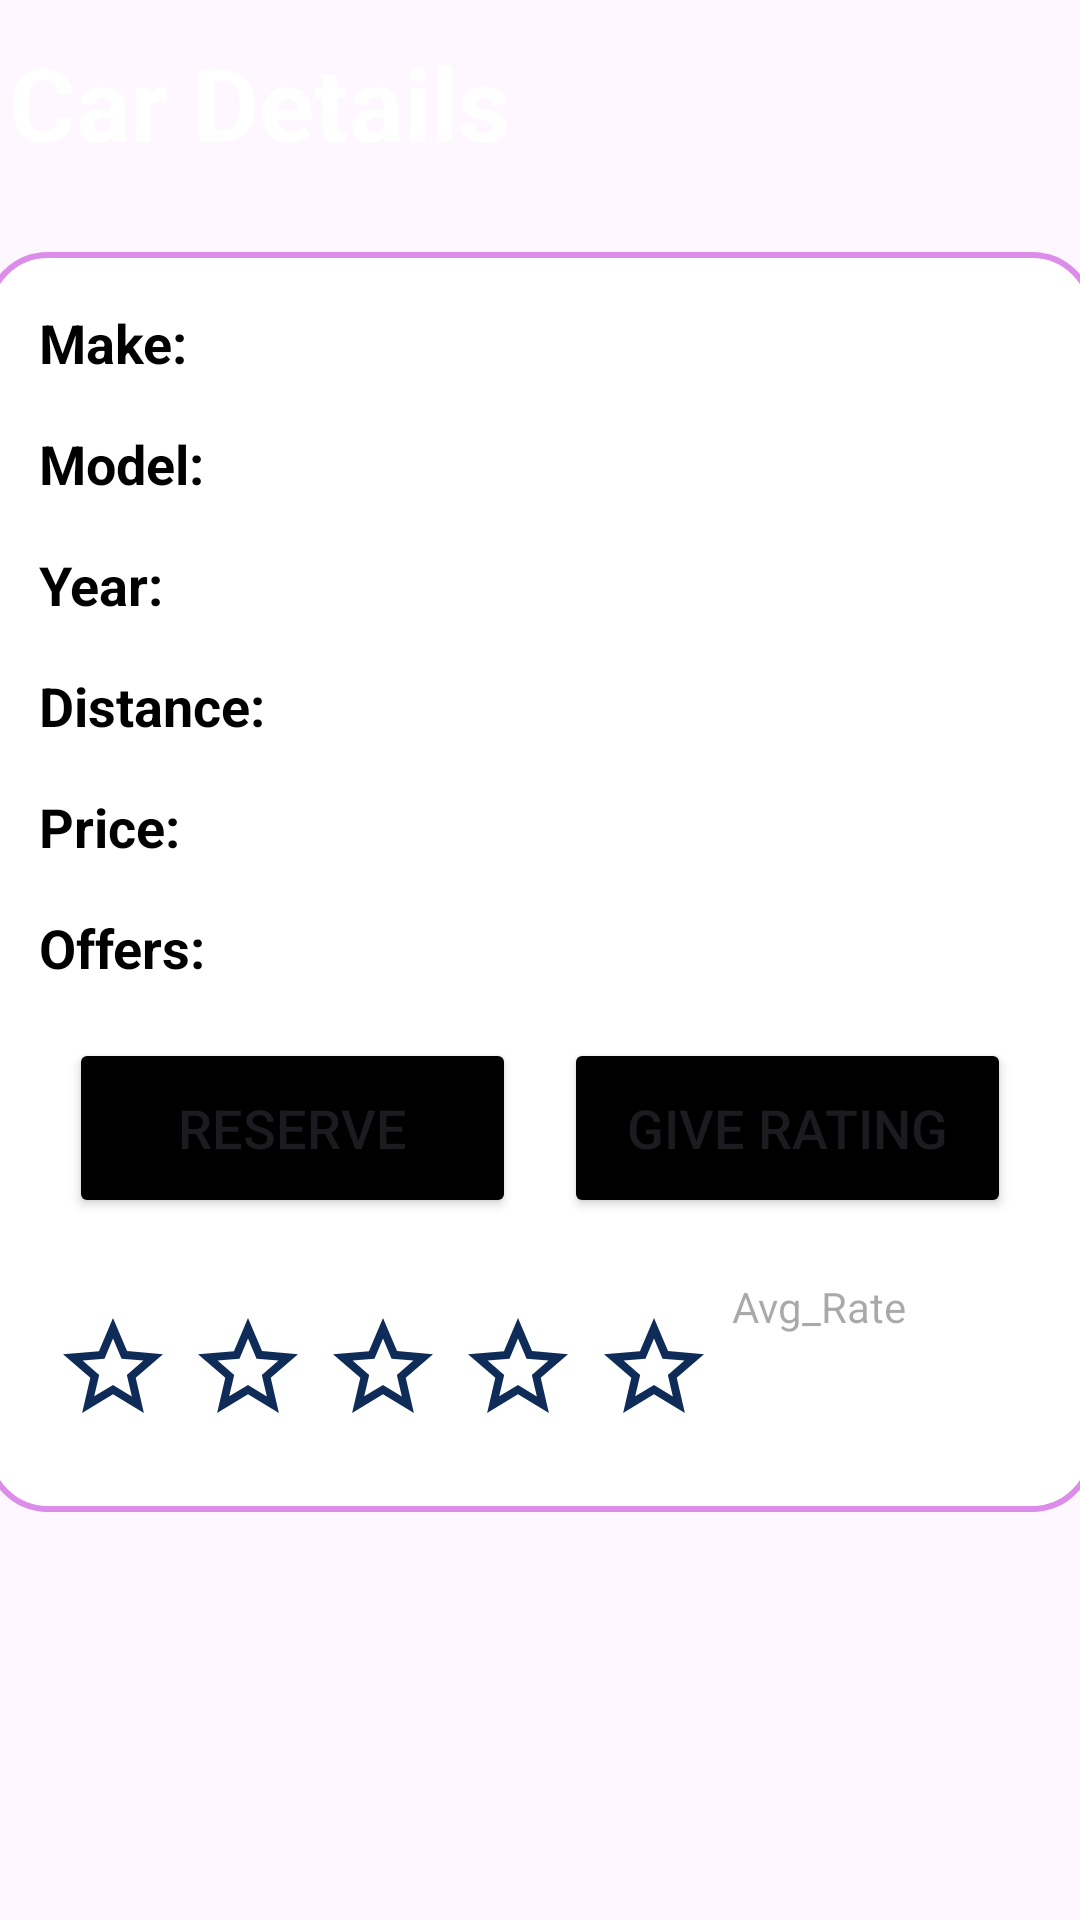

Icon bounding boxes for this 1080 × 1920 phone screenshot, format (x1, y1, x2, y2):
star: (63, 1318, 163, 1413), (198, 1318, 298, 1413), (333, 1318, 433, 1413), (468, 1318, 568, 1413), (604, 1318, 704, 1413)
